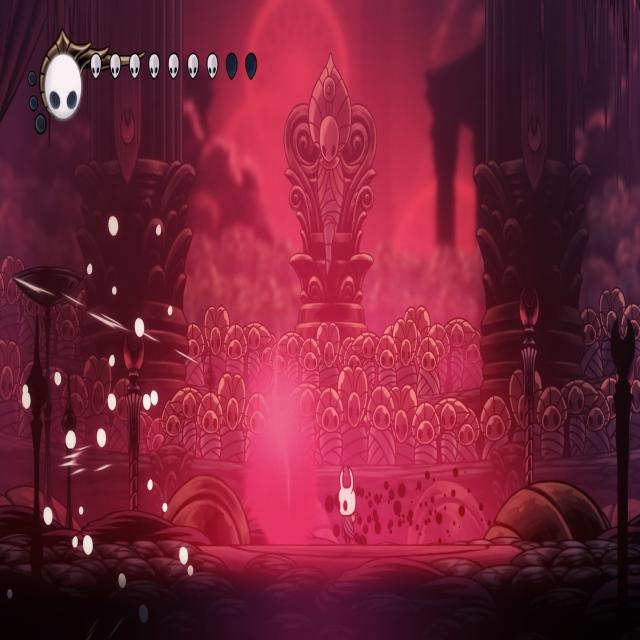Player: (336, 463, 363, 549)
